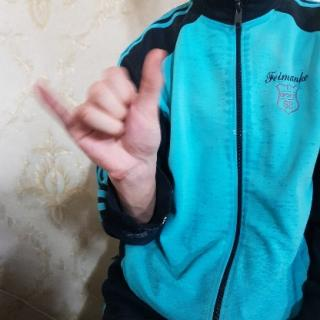YA: (32, 45, 176, 184)
